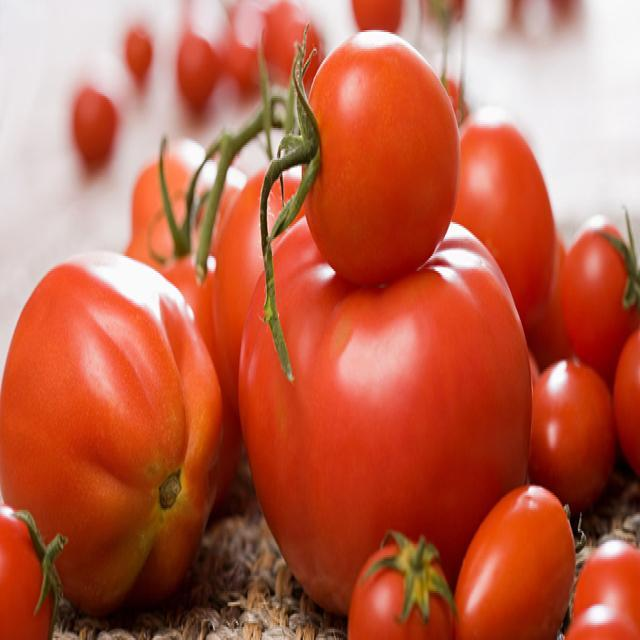kirmizi: (256, 46, 508, 256)
sari: (24, 250, 248, 562), (466, 490, 588, 640)
